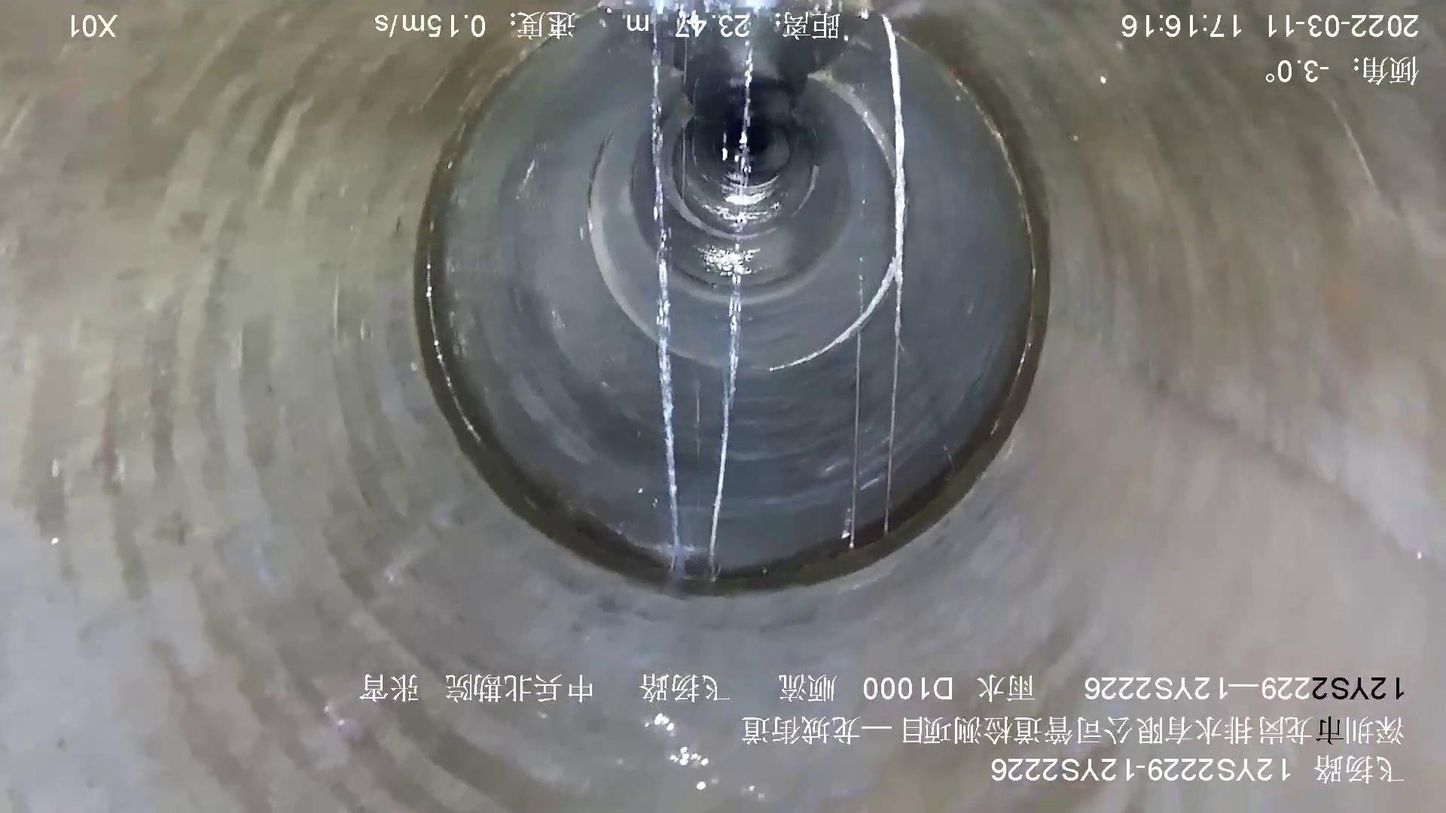SL: (626, 1, 933, 592)
